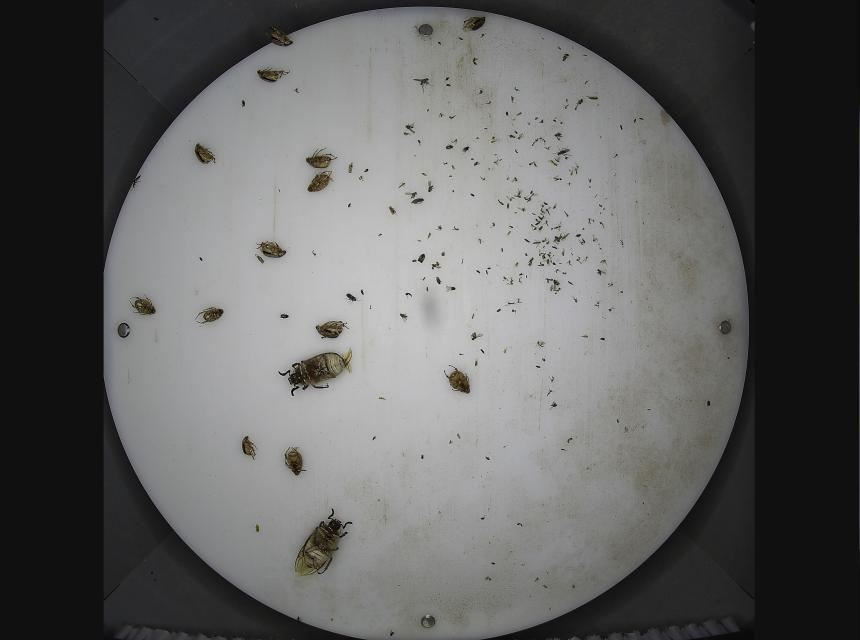Tiny fly: (412, 77, 436, 95), (551, 144, 575, 159), (460, 142, 473, 156), (253, 252, 266, 265), (404, 121, 417, 134), (469, 330, 484, 341), (409, 197, 426, 205), (388, 205, 400, 216), (547, 400, 559, 411), (346, 160, 355, 174), (404, 191, 419, 199), (596, 267, 608, 277), (398, 312, 408, 323), (427, 180, 435, 193), (503, 299, 516, 307), (444, 284, 456, 292), (397, 180, 406, 190), (572, 295, 579, 304), (474, 356, 479, 367), (552, 203, 557, 211)
beetle: (344, 293, 362, 303), (277, 312, 290, 320), (444, 143, 455, 151), (240, 98, 247, 109)
insect: (292, 507, 357, 579), (277, 344, 356, 399), (441, 364, 471, 396), (313, 318, 351, 341), (283, 445, 308, 478), (305, 147, 340, 169), (264, 25, 296, 49), (128, 292, 157, 317), (305, 170, 335, 194), (254, 65, 292, 83), (193, 306, 225, 326), (255, 239, 288, 258), (193, 140, 218, 165), (241, 433, 261, 461), (460, 16, 486, 33)
skeeter: (526, 340, 548, 351)
